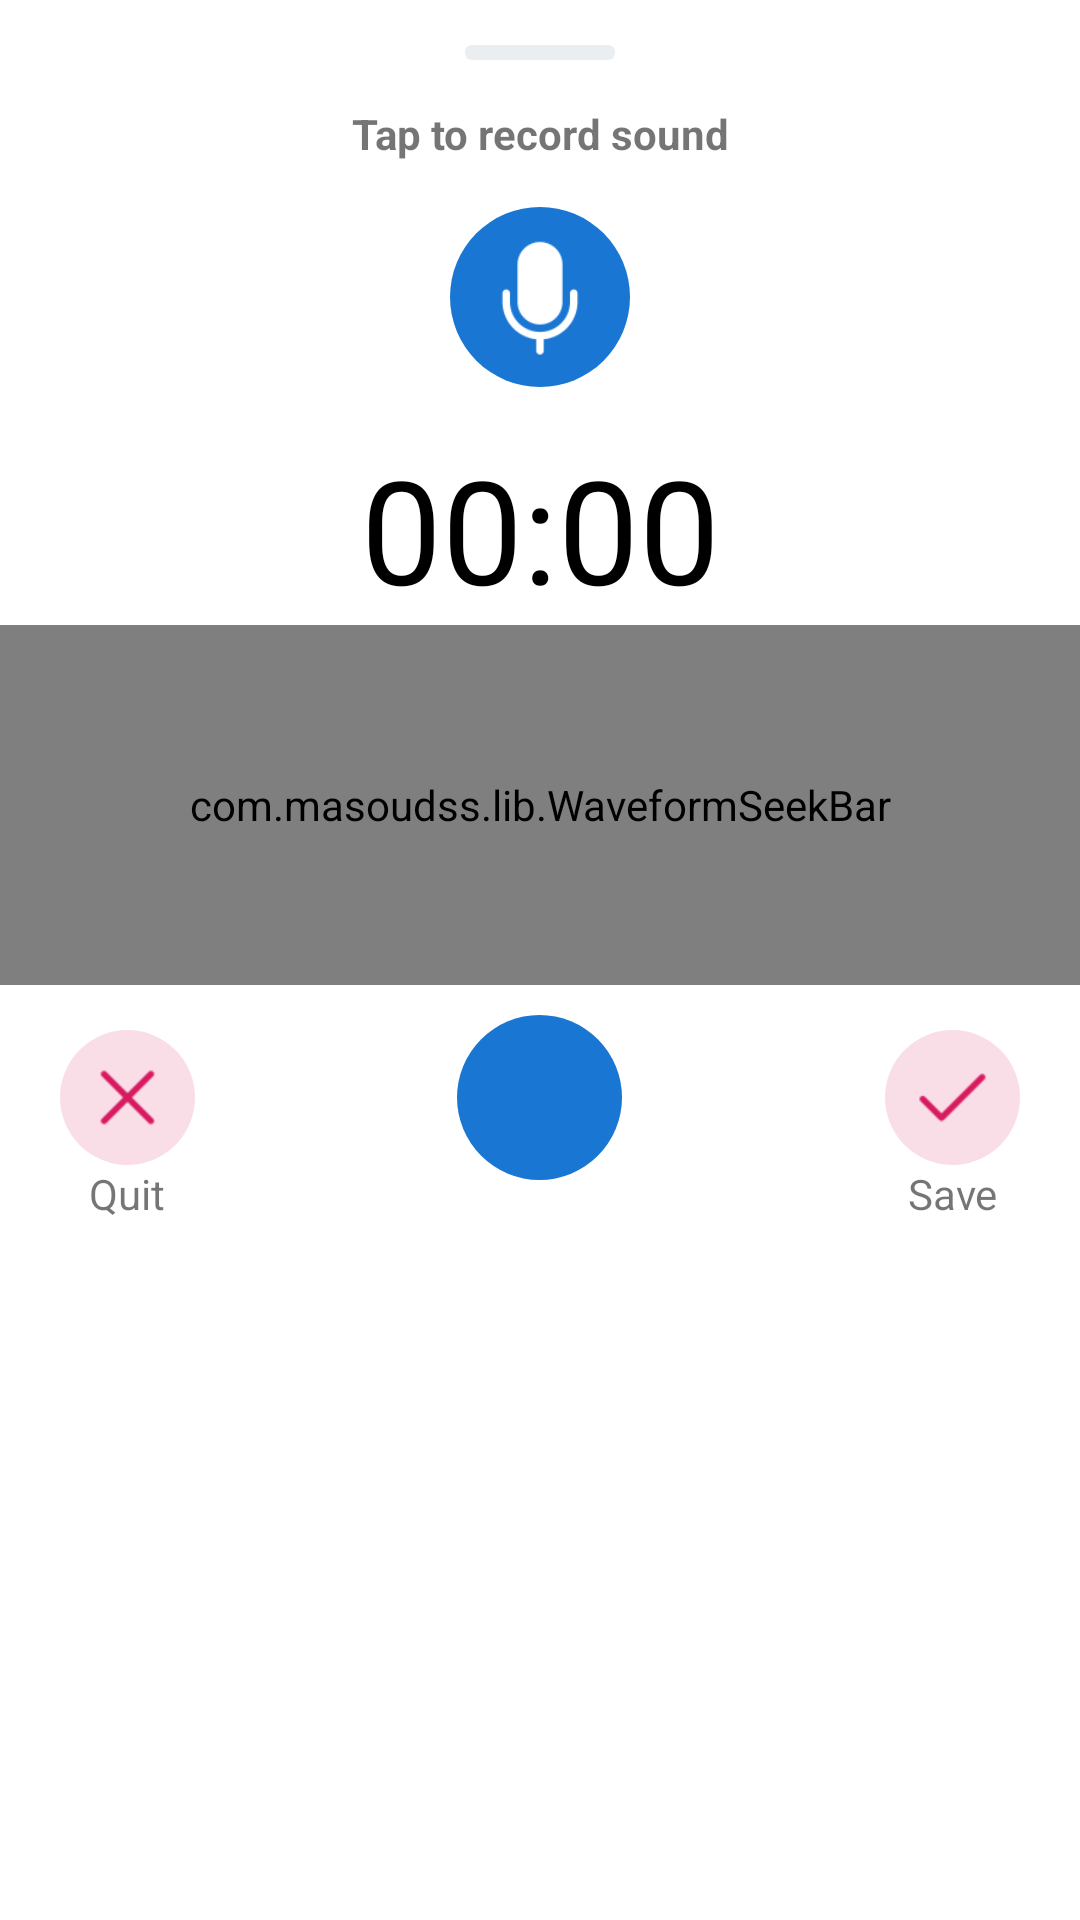

Named icons in this screenshot (1080 x 1920) and their bounding boxes, (left=x1, top=y1, right=x2, bottom=y2):
cancel: (left=100, top=1070, right=155, bottom=1125)
checkmark: (left=919, top=1073, right=986, bottom=1122)
microphone: (left=502, top=241, right=578, bottom=355)
